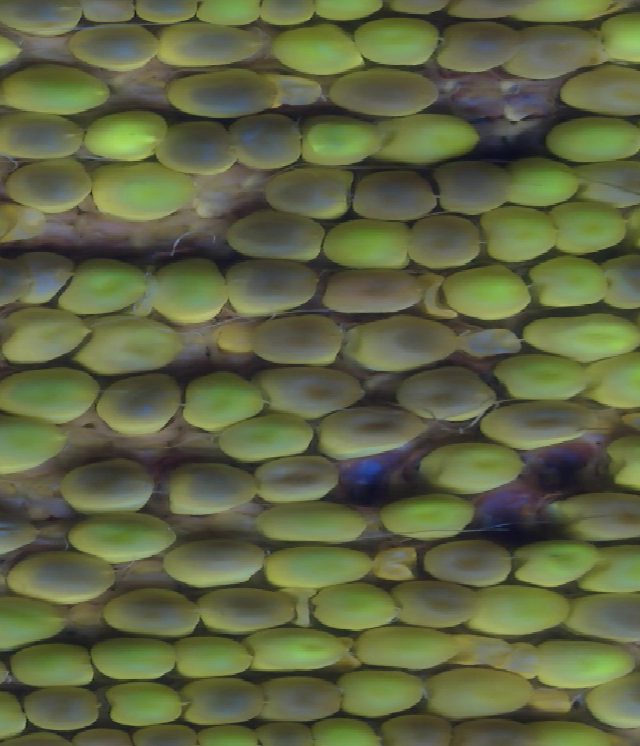fluorescent: (91, 162, 197, 218), (3, 64, 114, 117), (416, 443, 525, 495), (521, 313, 640, 360), (80, 317, 184, 370), (469, 585, 573, 638), (145, 258, 227, 325), (56, 257, 149, 316), (0, 368, 96, 425), (69, 511, 176, 561), (437, 264, 532, 319), (1, 311, 92, 367), (323, 216, 415, 269), (539, 638, 634, 689), (255, 500, 367, 543), (498, 351, 587, 405), (270, 25, 365, 75), (376, 493, 478, 539), (381, 115, 479, 162), (304, 112, 381, 171), (248, 628, 340, 677), (338, 666, 423, 718), (484, 207, 560, 265), (529, 258, 608, 313), (184, 373, 266, 425), (359, 628, 457, 671), (549, 114, 640, 160), (91, 632, 174, 682), (222, 415, 314, 460), (314, 582, 396, 632), (4, 642, 97, 686), (555, 200, 630, 253), (504, 160, 582, 210), (265, 546, 373, 582), (87, 110, 164, 160), (358, 19, 438, 67), (0, 414, 66, 471), (516, 542, 596, 588), (105, 679, 181, 724), (580, 544, 640, 593), (174, 645, 256, 680), (587, 354, 640, 408), (0, 598, 63, 641), (596, 14, 640, 65), (604, 437, 640, 495)
nonfluorescent: (315, 405, 430, 456), (224, 256, 323, 315), (103, 587, 203, 643), (476, 401, 592, 449), (6, 551, 115, 601), (99, 372, 180, 438), (163, 70, 279, 116), (251, 310, 346, 365), (169, 457, 257, 515), (331, 67, 435, 116), (60, 458, 152, 513), (505, 24, 598, 78), (400, 368, 490, 423), (224, 214, 329, 261), (265, 366, 365, 415), (160, 539, 262, 587), (346, 317, 457, 361), (154, 27, 264, 70), (264, 165, 354, 216), (323, 267, 418, 315), (435, 22, 520, 75), (199, 585, 292, 633), (70, 22, 159, 72), (408, 213, 490, 267), (255, 457, 345, 505), (422, 539, 515, 585), (152, 121, 237, 171), (351, 169, 436, 219), (8, 160, 88, 213), (398, 582, 478, 632), (432, 164, 509, 215), (0, 114, 85, 160), (562, 67, 640, 116), (557, 493, 640, 539), (182, 678, 264, 724), (234, 112, 302, 167), (259, 673, 342, 718), (23, 684, 106, 729), (568, 593, 640, 642), (18, 252, 72, 310), (374, 715, 472, 746), (589, 675, 640, 728), (579, 160, 640, 204), (603, 252, 640, 308), (456, 718, 528, 746), (0, 507, 40, 555), (0, 258, 32, 310)
